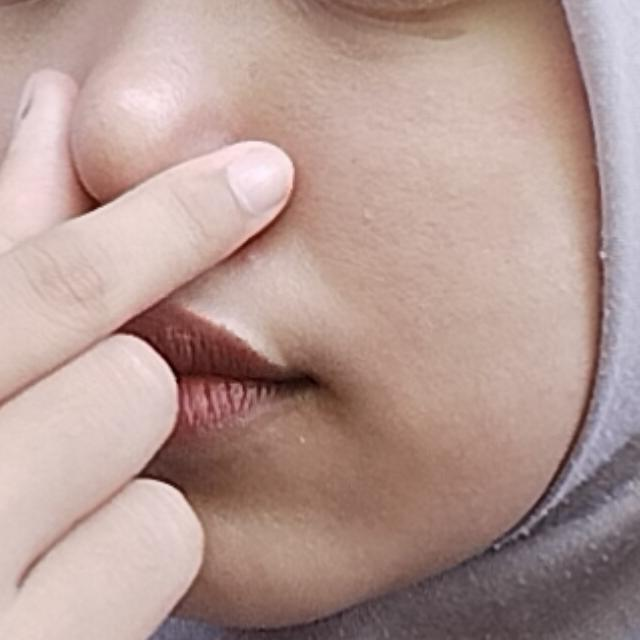bau: (0, 8, 485, 640)
